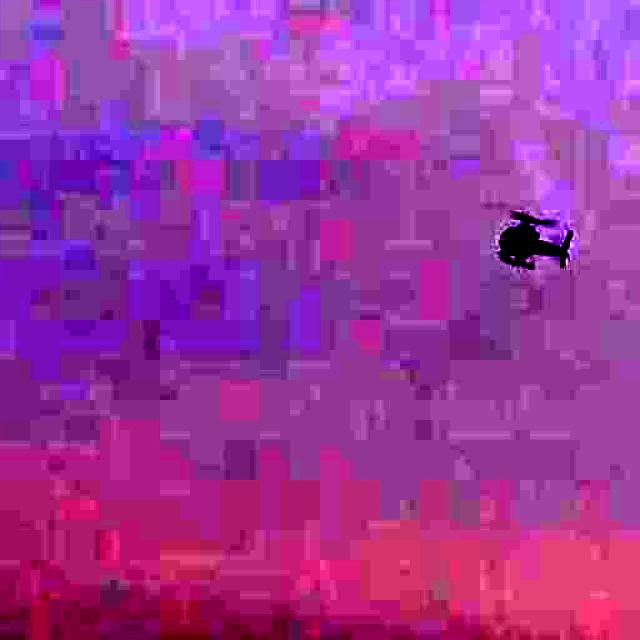drone: (470, 178, 588, 291)
